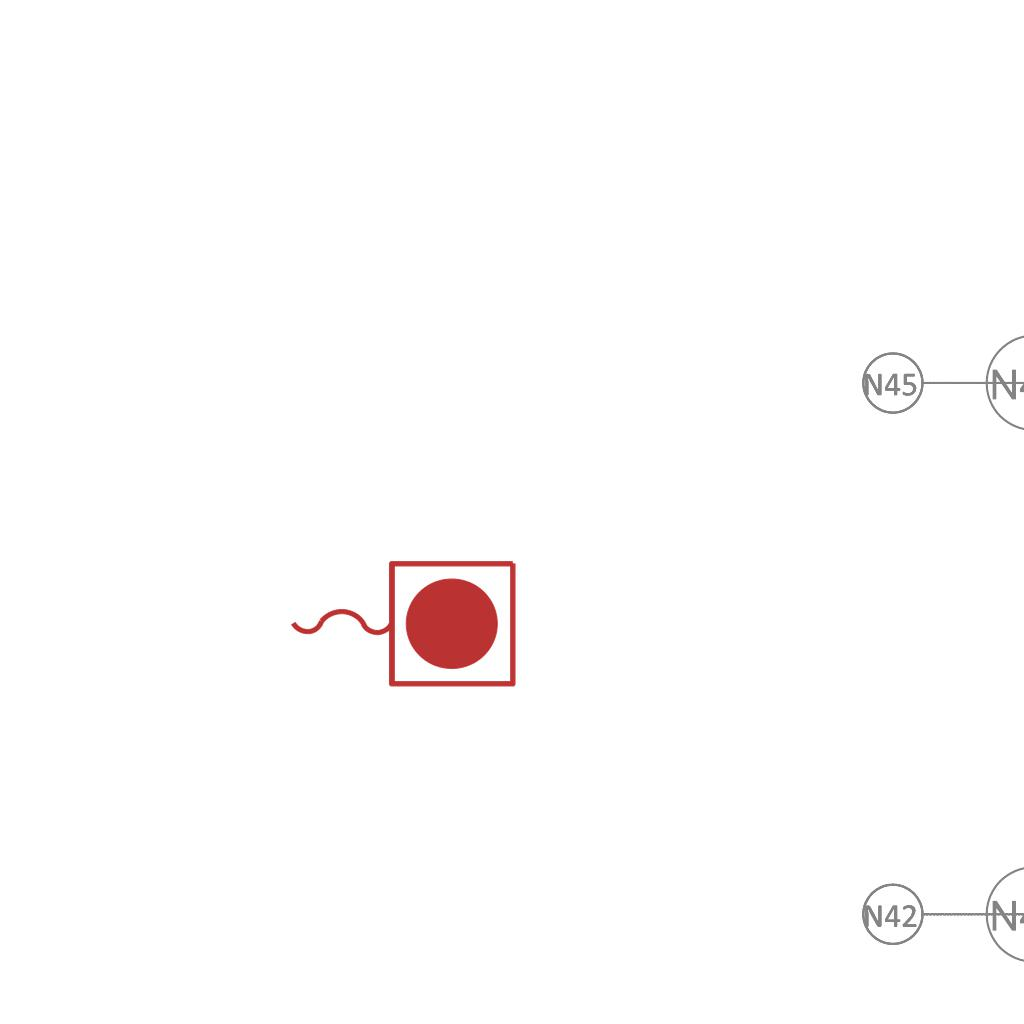Zugtaster: (280, 550, 524, 694)
